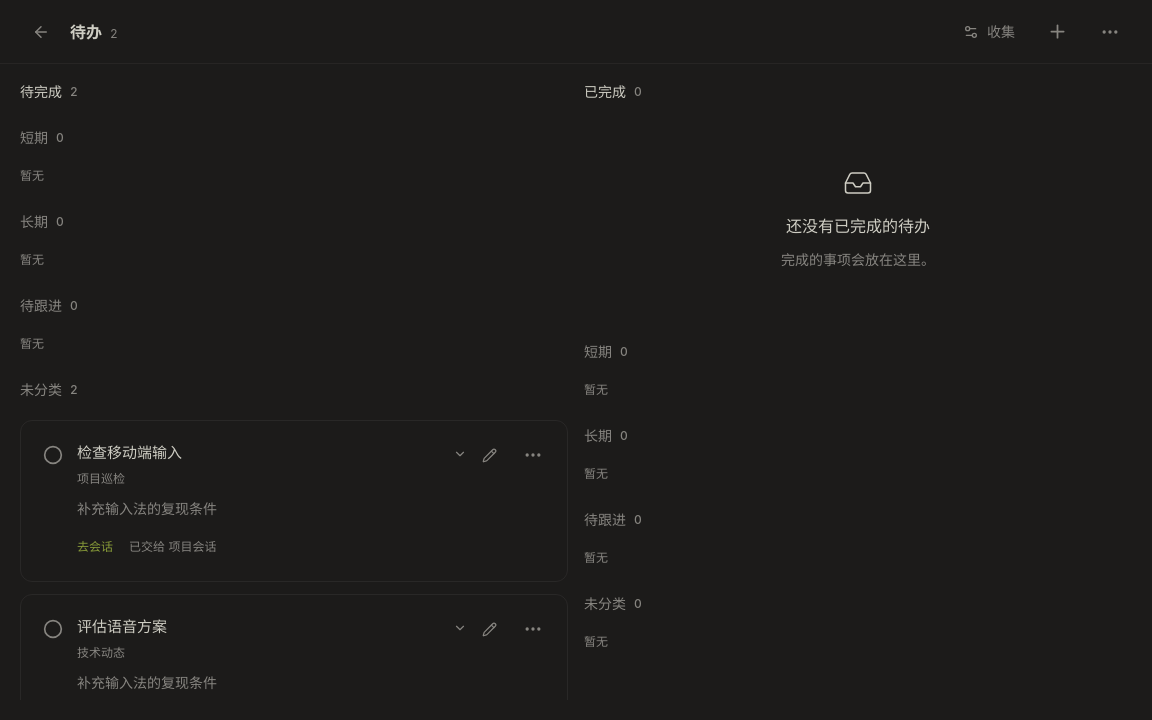
Test: links every member of a handed-off batch to the same session without requiring a report
Expected: the text "检查移动端输入" is shown, 77,443 -> 182,462
Step 1. Click the button "检查移动端输入" → x=130, y=452, box 77,441 -> 467,465
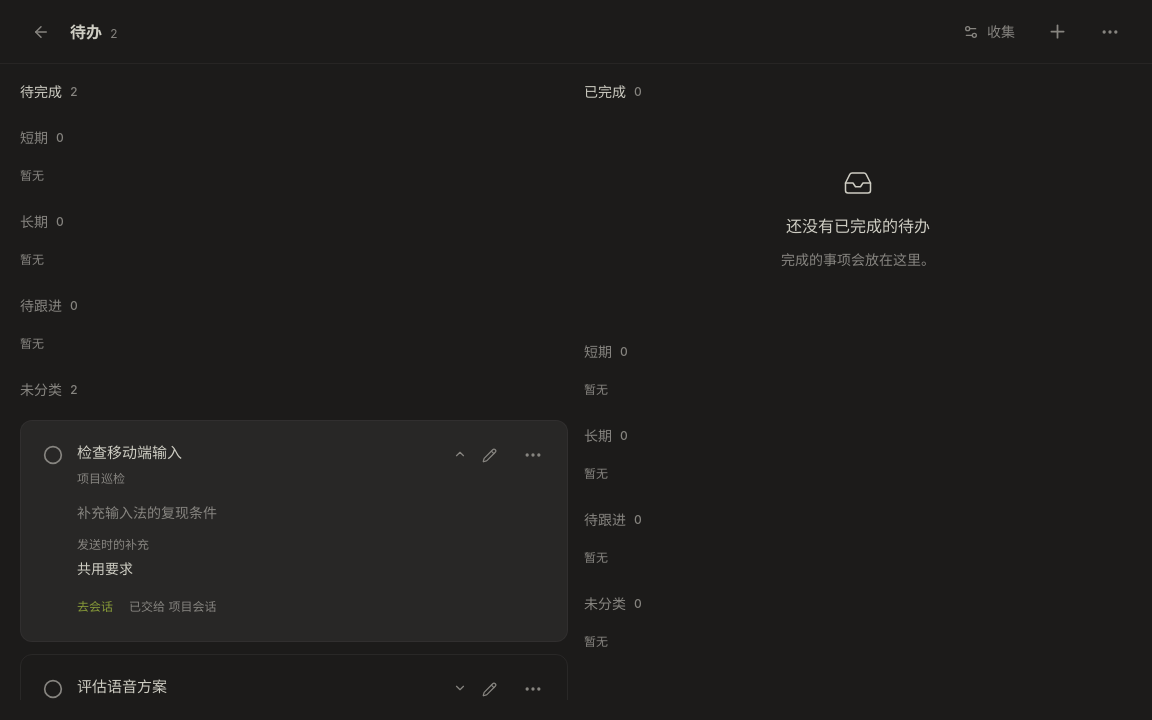
Expected: the text "共用要求" is shown, 77,560 -> 133,577
